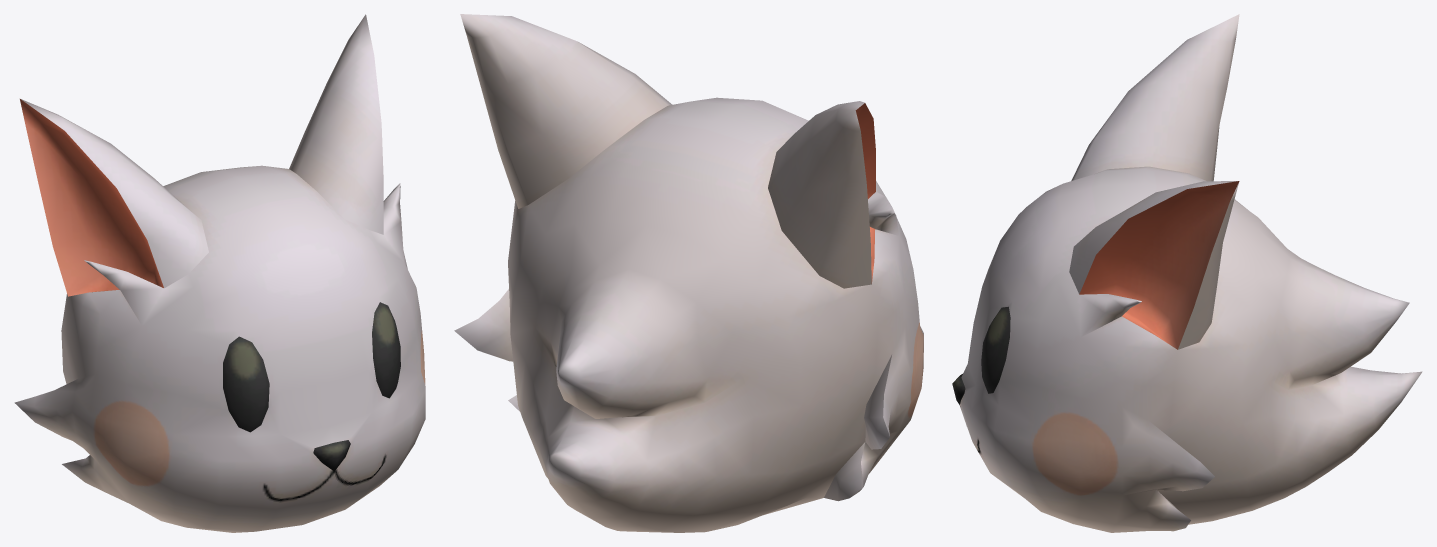
The model's file is CatBladeProp.fbx.
3 renders of one model, left to right at view 1: azimuth 30°, elevation 25°; view 2: azimuth 150°, elevation 25°; view 3: azimuth 270°, elevation 25°, orthographic. The views are drawn at different scales.
Visible parts, largest first — view 1: SM_YakushimaBlade001_Cat.mo; view 2: SM_YakushimaBlade001_Cat.mo; view 3: SM_YakushimaBlade001_Cat.mo.
Part boxes in pixels (<box>): SM_YakushimaBlade001_Cat.mo: <box>14,14,425,532</box>; SM_YakushimaBlade001_Cat.mo: <box>454,14,923,532</box>; SM_YakushimaBlade001_Cat.mo: <box>952,14,1422,532</box>.
Bounding box in the file's own units: 23.58 × 24.34 × 25.48.
